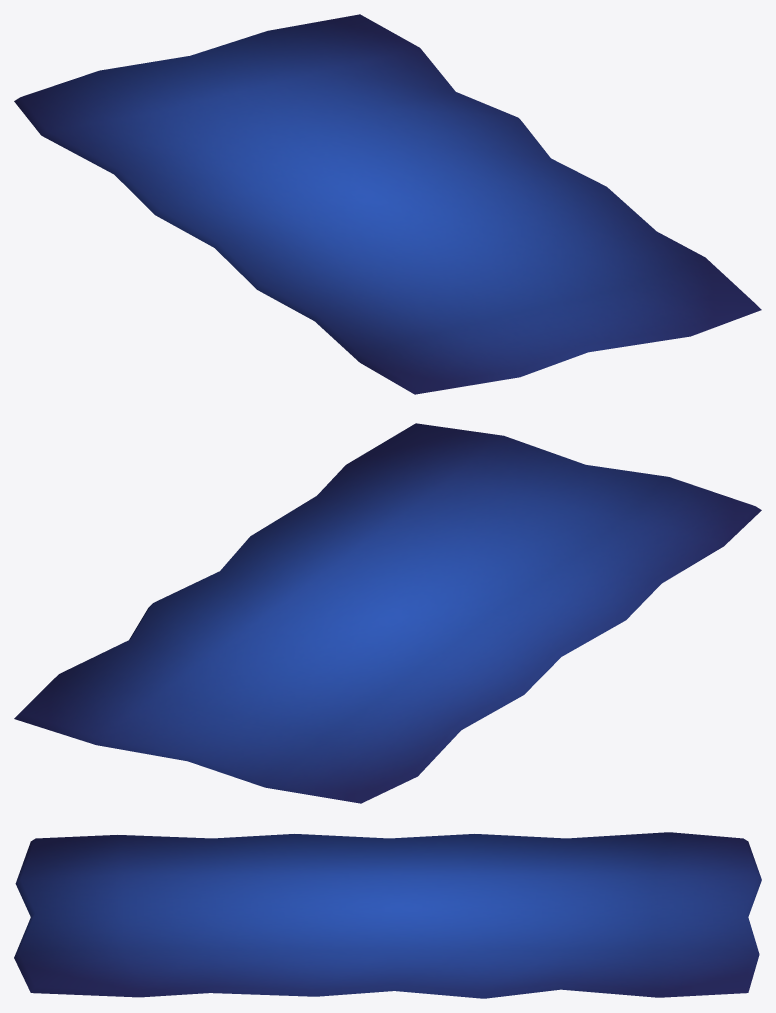
File: floor-1.fbx
3 views of the same model, one above another, from view 1: azimuth 30°, elevation 25°; view 2: azimuth 150°, elevation 25°; view 3: azimuth 270°, elevation 25° (orthographic). The views are drawn at different scales.
Visible parts, largest first — view 1: Plane; view 2: Plane; view 3: Plane.
Part boxes in pixels (x1,y1,x2,y2): Plane: (14, 14, 761, 394); Plane: (14, 423, 761, 803); Plane: (14, 832, 761, 998).
Bounding box in the file's own units: 2161 × 28.21 × 4170.
